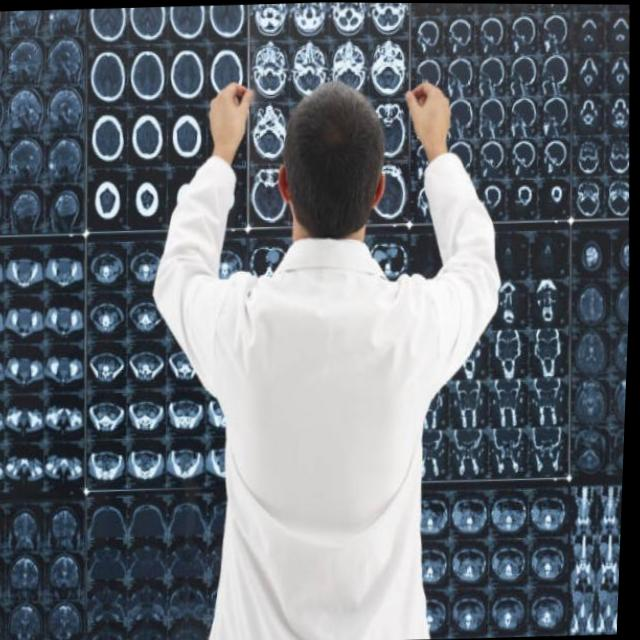no helmet: (258, 60, 404, 271)
